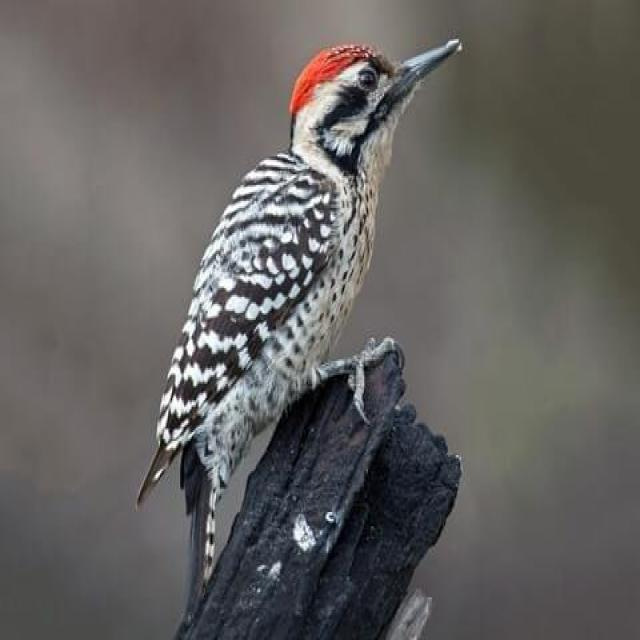Woodpecker: (137, 24, 466, 578)
